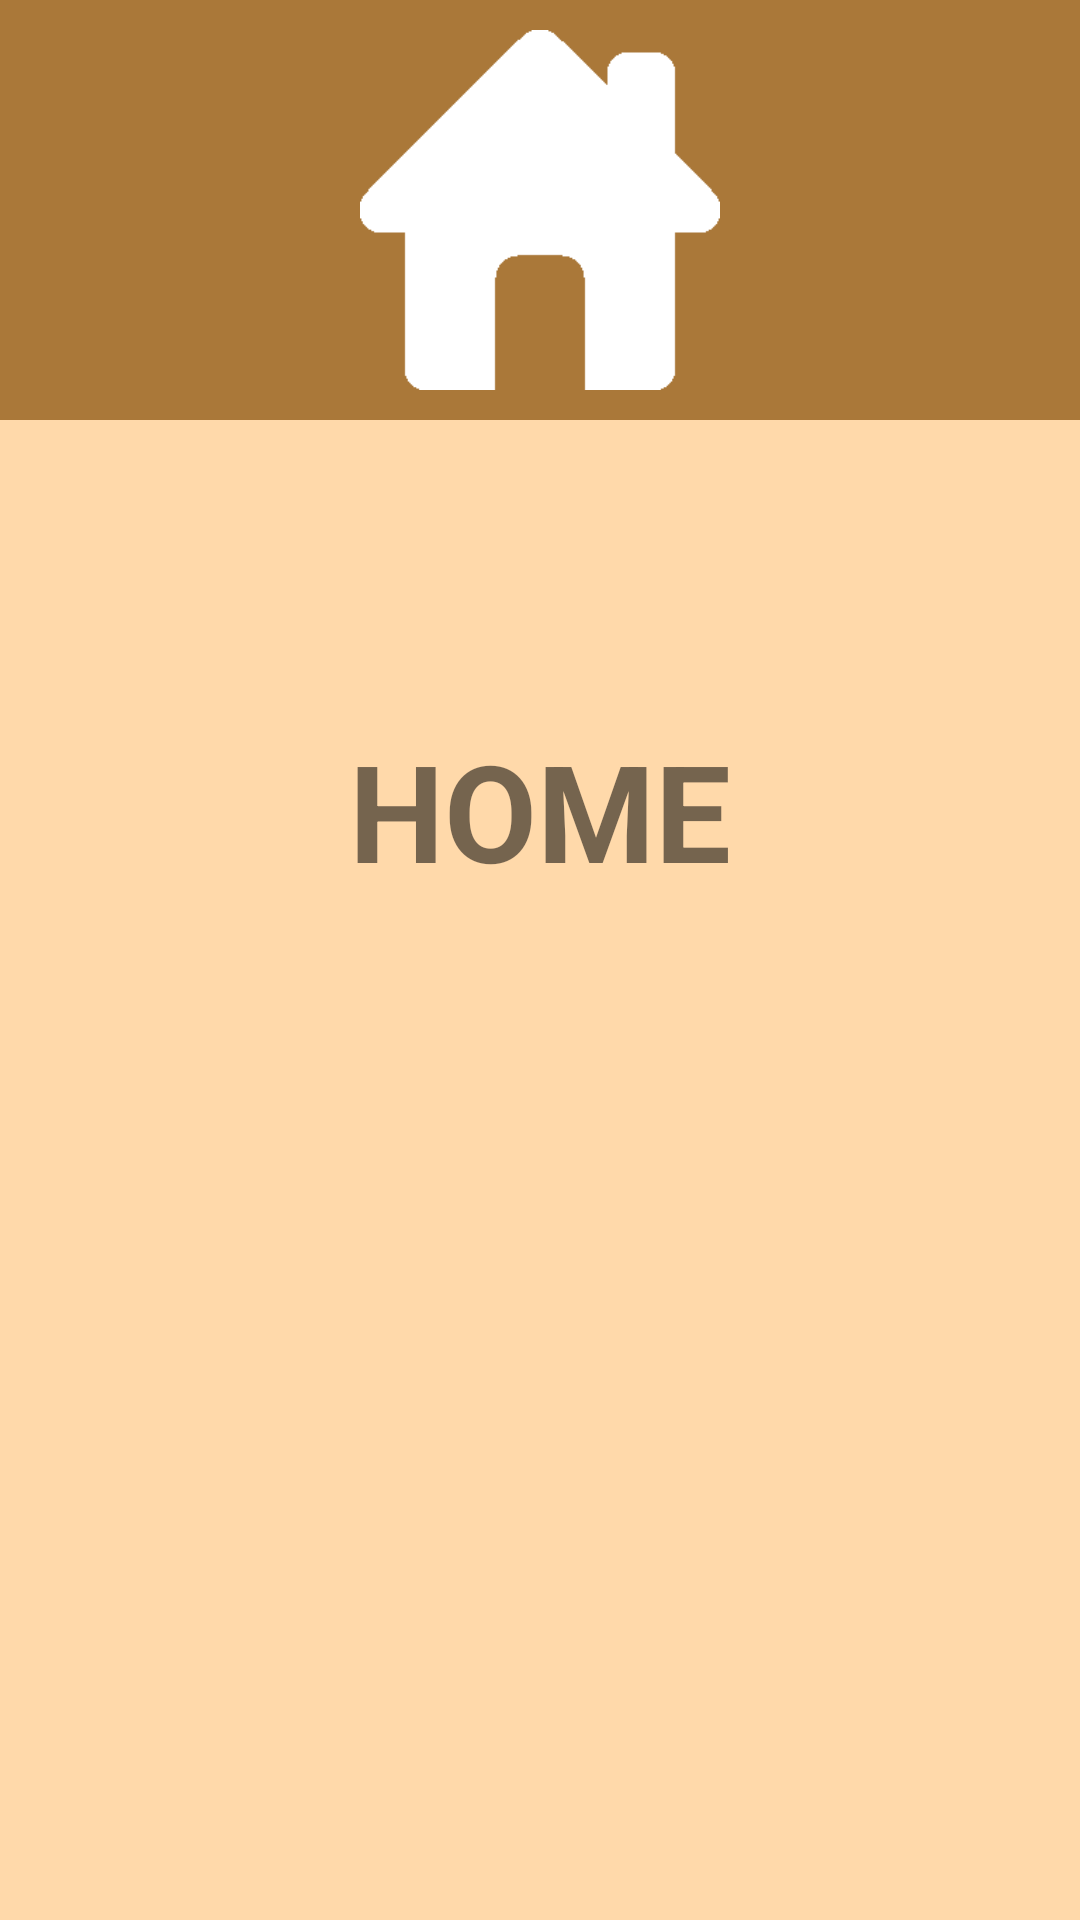

Where to tap for icons on this 1080px x 1920px app screen, as [x,y]:
home: [540,210]
